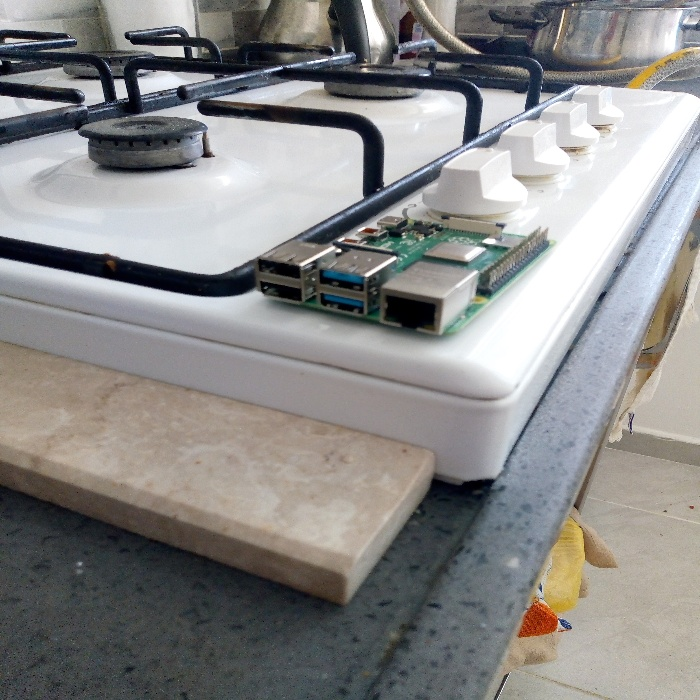raspberry: (245, 181, 556, 335)
